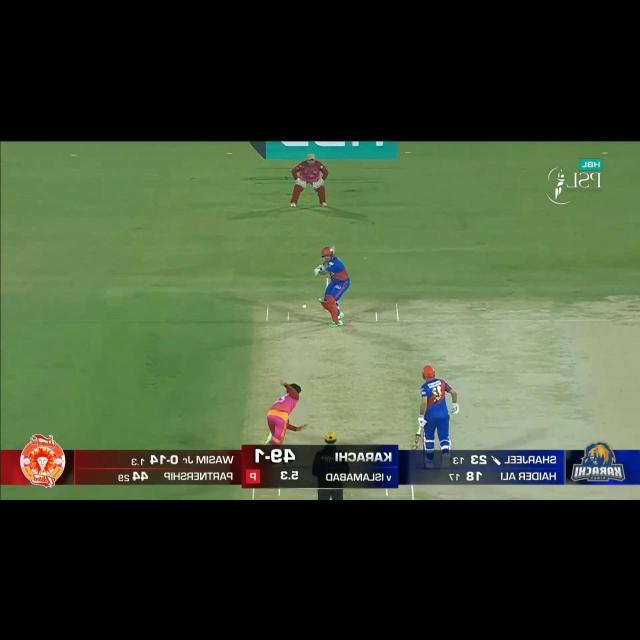bat: (413, 434, 421, 448), (330, 244, 336, 253)
toe: (329, 244, 336, 254)
